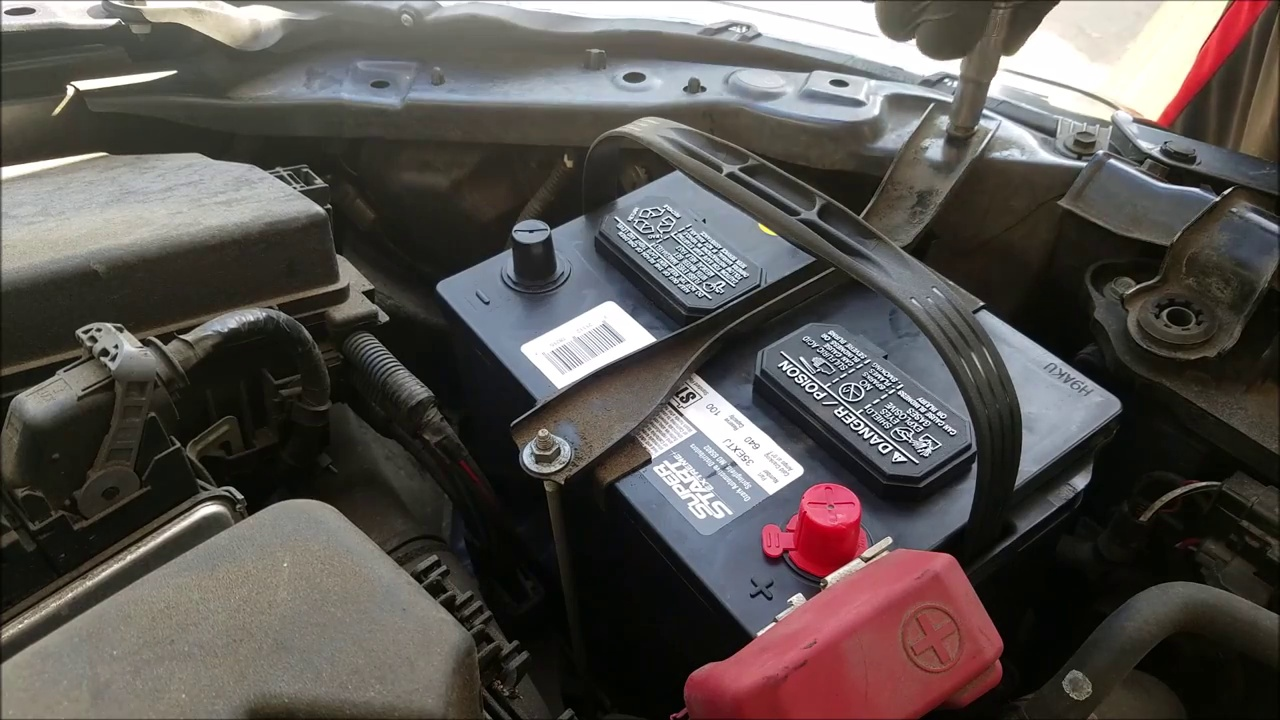battery: (409, 168, 1115, 623)
pos_disconnected: (670, 437, 1006, 720)
